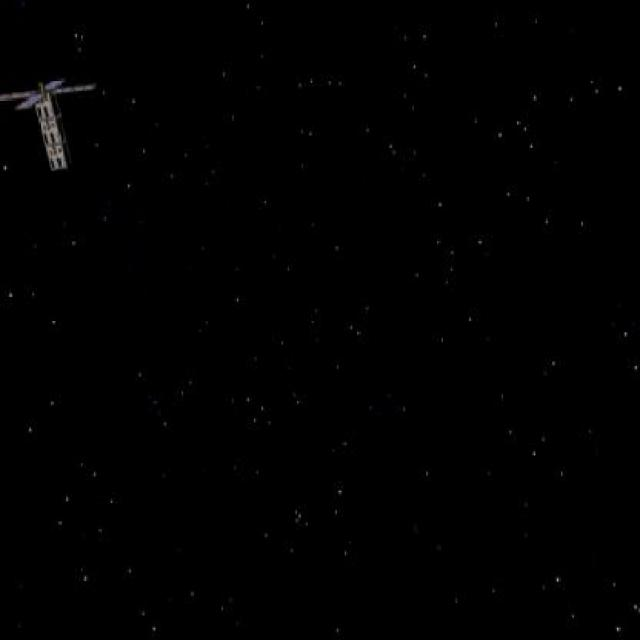medium_debris: (0, 54, 92, 179)
